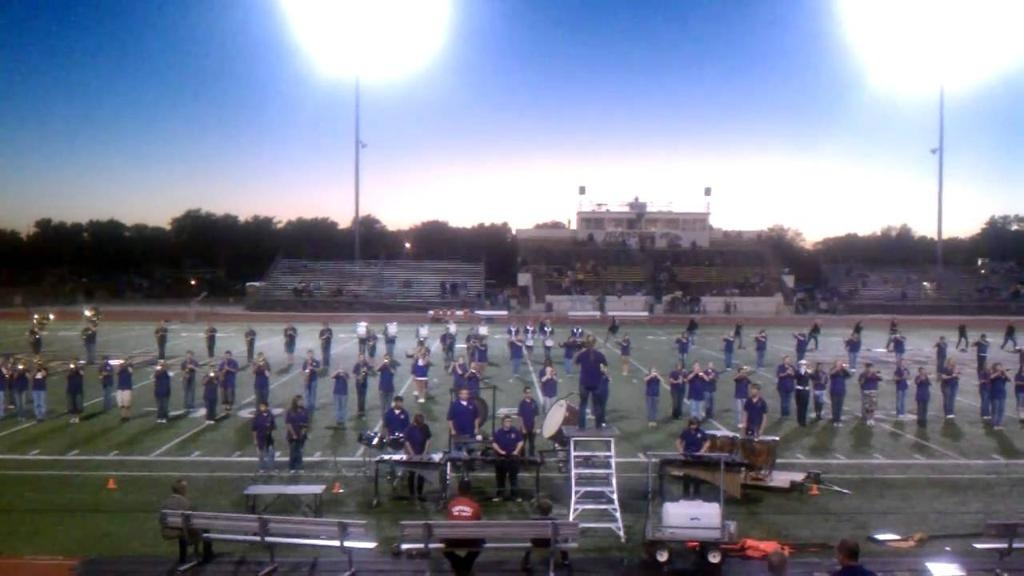human_face: (460, 389, 468, 399), (505, 418, 511, 426), (692, 363, 698, 371), (445, 326, 451, 333), (650, 370, 656, 376), (690, 423, 696, 429), (751, 386, 757, 392), (784, 356, 790, 362), (384, 356, 390, 362), (367, 328, 373, 334), (259, 406, 267, 410), (417, 416, 421, 424), (526, 388, 530, 396), (546, 360, 550, 368), (951, 359, 955, 367), (298, 399, 302, 405), (708, 362, 712, 368), (188, 353, 192, 359), (224, 353, 228, 359), (256, 356, 262, 360), (458, 356, 462, 362), (760, 330, 764, 336), (818, 365, 822, 371), (836, 361, 840, 367), (866, 366, 870, 372), (900, 361, 904, 367), (996, 365, 1000, 371), (122, 360, 126, 366), (396, 400, 400, 404), (307, 351, 311, 355), (322, 325, 326, 329), (246, 324, 250, 328), (338, 366, 342, 370), (471, 364, 475, 368), (624, 335, 628, 339), (801, 364, 805, 368), (920, 369, 924, 373), (740, 370, 744, 374), (102, 358, 106, 362), (546, 320, 550, 324), (574, 322, 578, 326), (470, 328, 472, 334), (288, 322, 290, 326), (206, 324, 210, 326), (158, 323, 162, 325), (360, 356, 362, 360), (512, 320, 514, 324), (677, 364, 679, 368), (682, 332, 686, 334), (730, 331, 732, 335), (982, 336, 986, 338), (940, 338, 942, 342), (853, 332, 855, 336), (528, 320, 530, 324)
